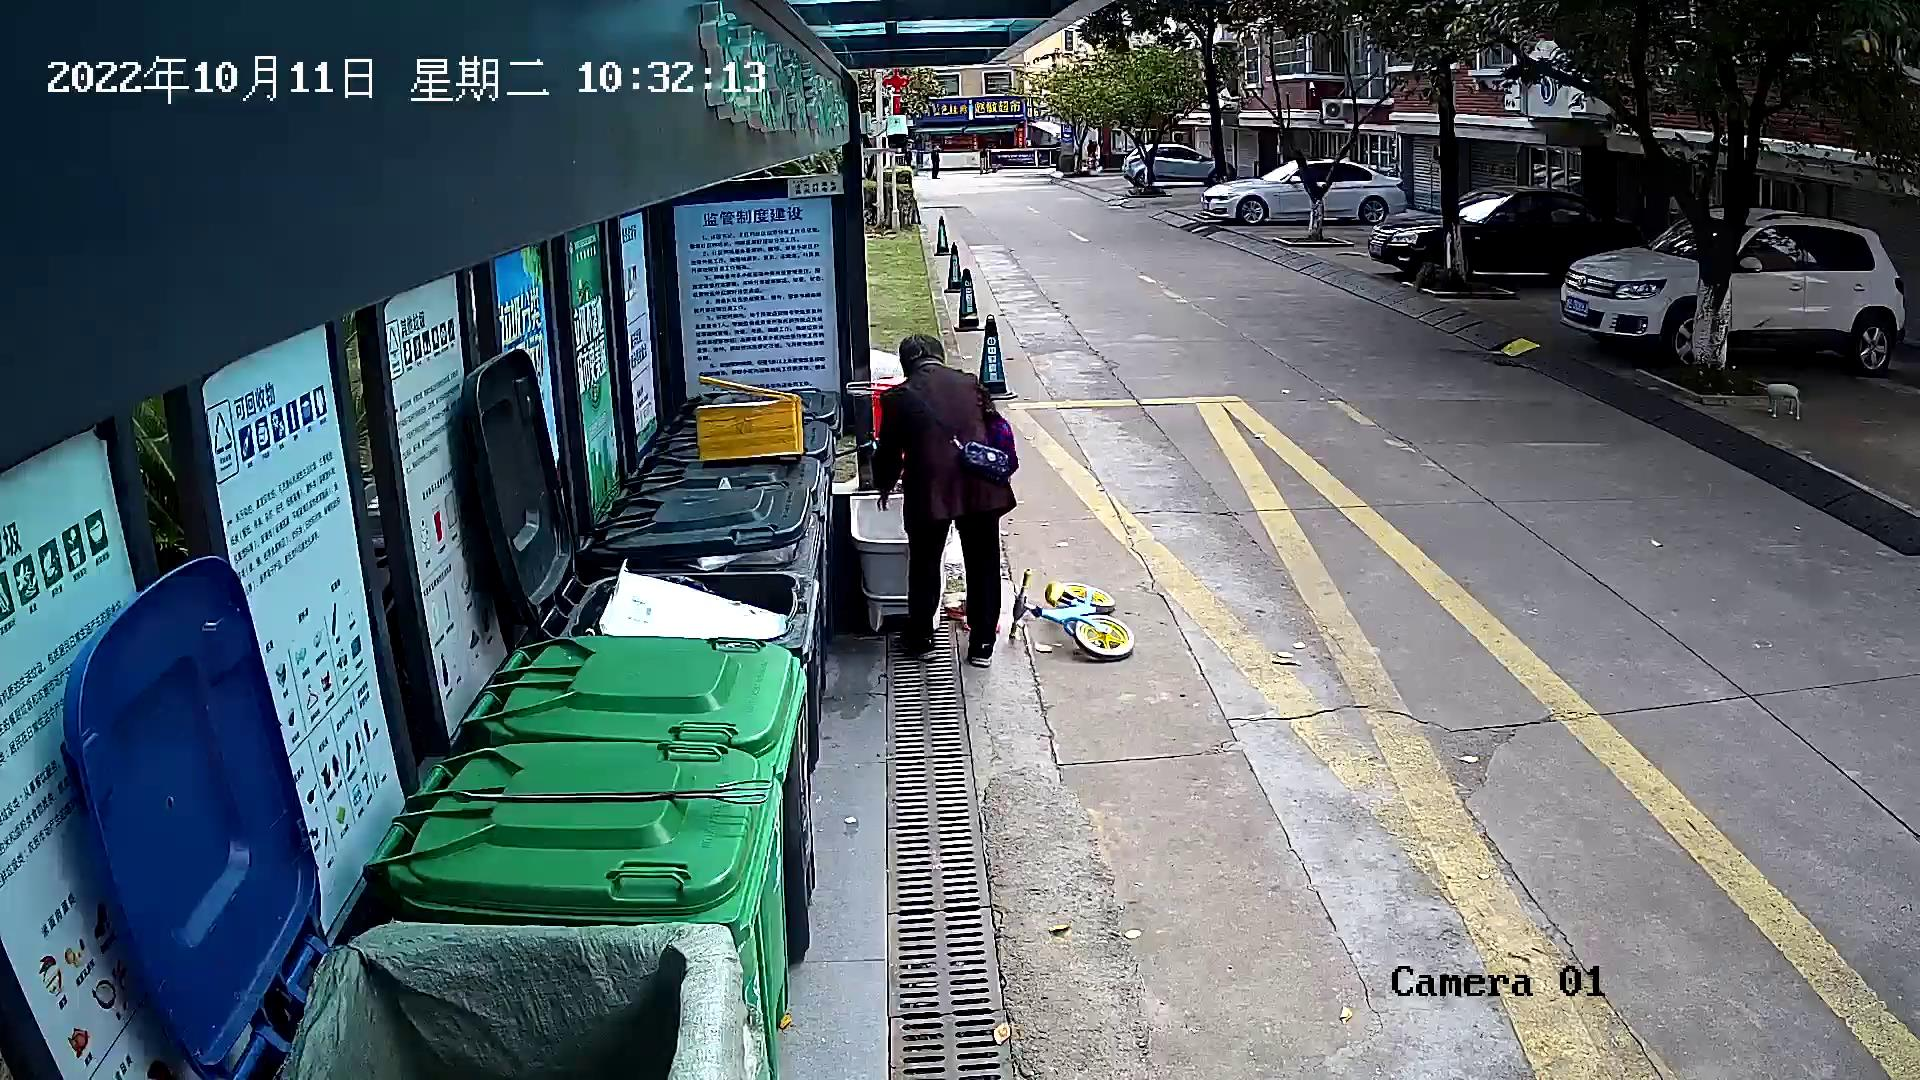person: (868, 326, 1021, 674)
